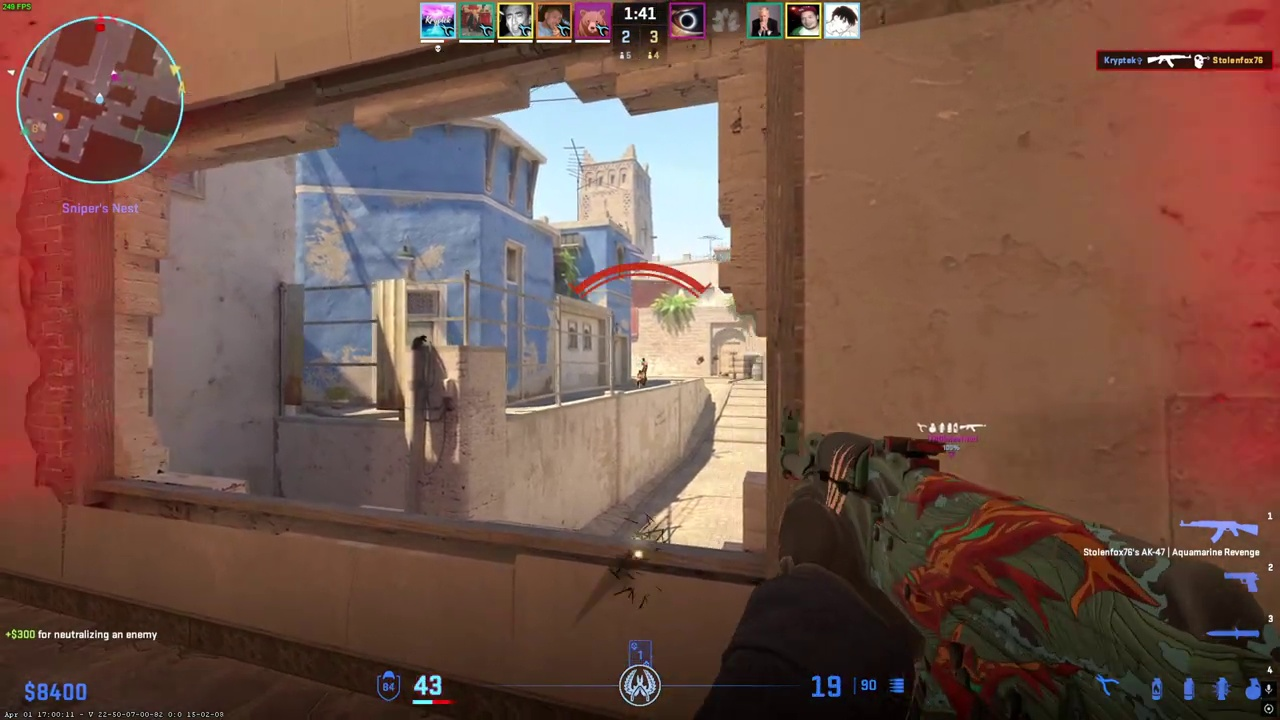Terrorist: (636, 370, 647, 388), (641, 357, 648, 372)
